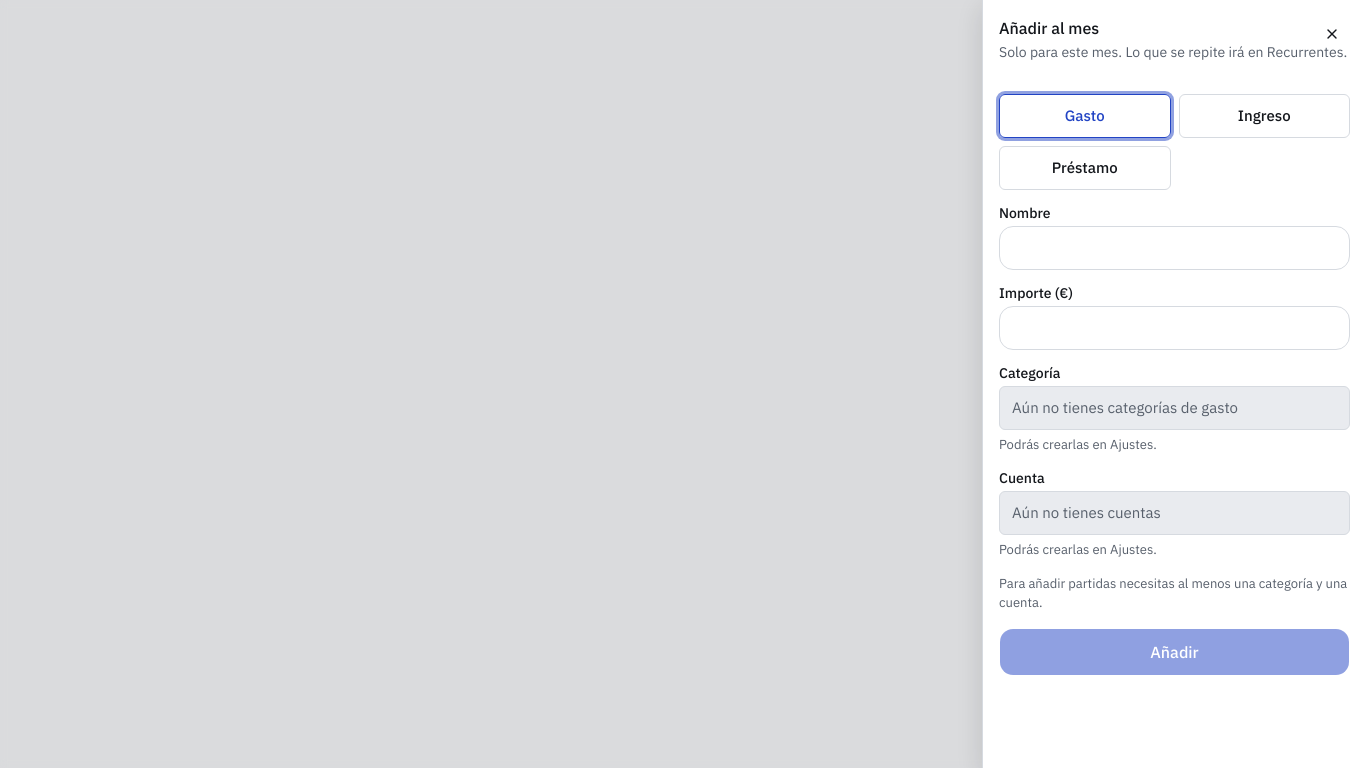
Test case: AddEntrySheet modos › «Préstamo» sin cuentas deshabilita Prestar y lo explica
Click the radio button labelled "Préstamo" at (1085, 168), box x1=999 y1=146 x2=1170 y2=190
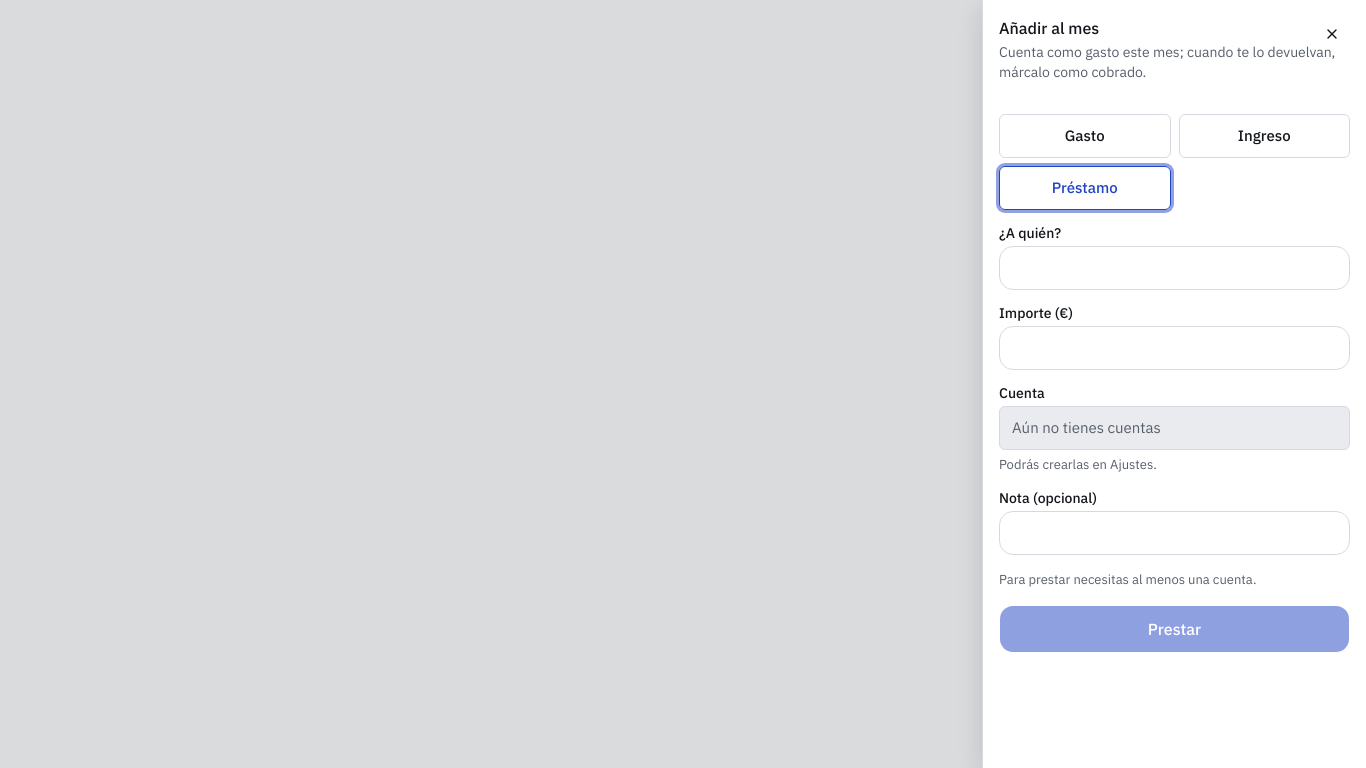
Check: the field "Aún no tienes cuentas" is shown, box x1=999 y1=406 x2=1350 y2=450
Check: the message reads "Para prestar necesitas al menos una cuenta.", box x1=999 y1=571 x2=1256 y2=588
